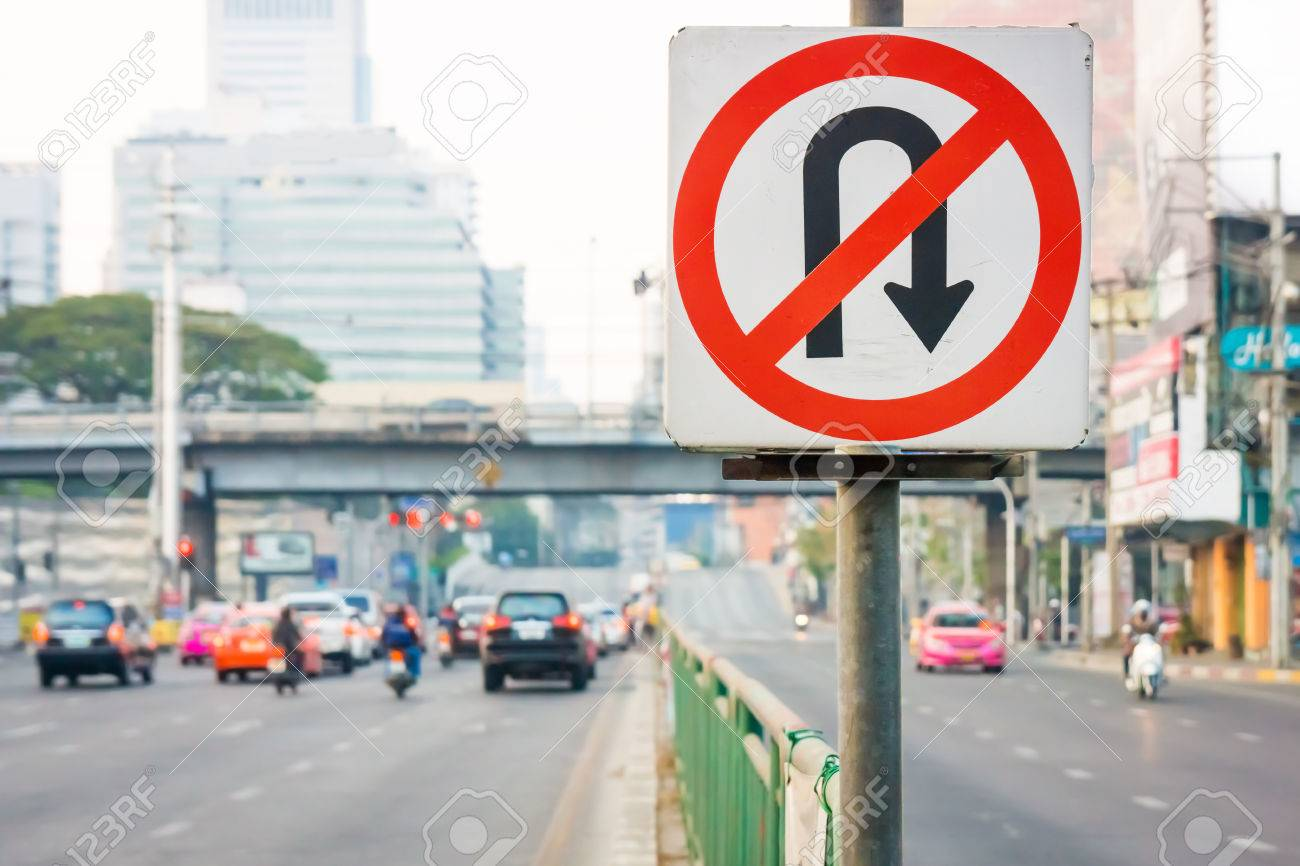No U Turn: (674, 30, 1089, 440)
